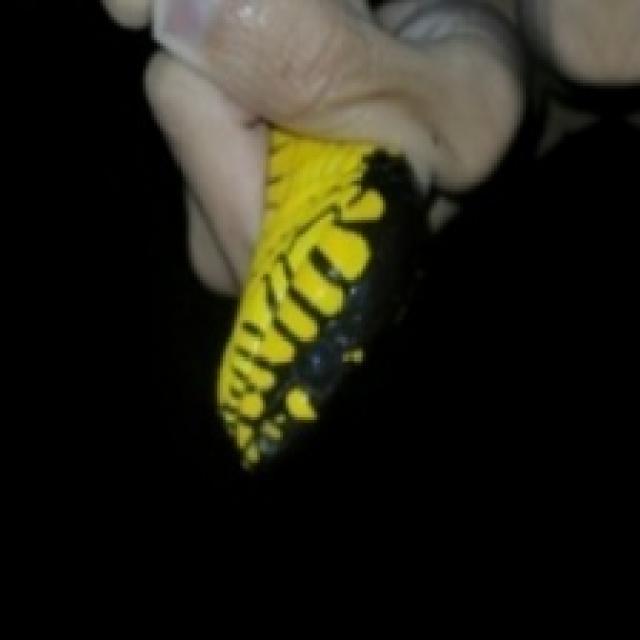mangrove cat snake: (216, 129, 431, 469)
